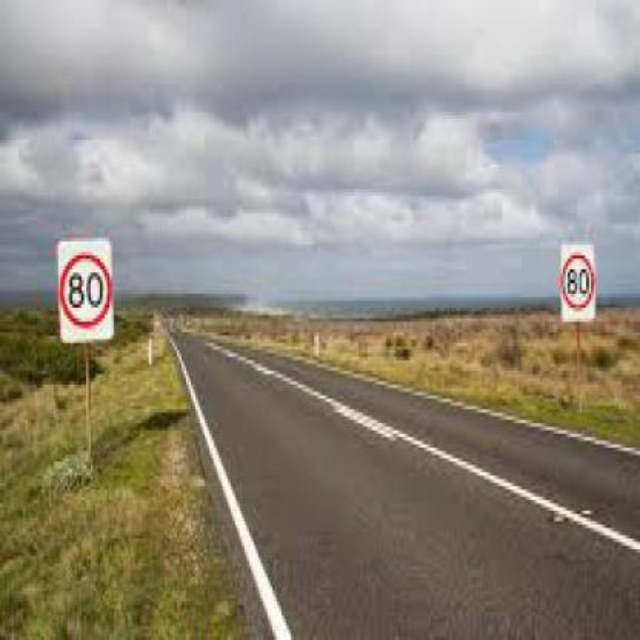Tốc độ tối đa cho phép 80km/h: (62, 249, 112, 328), (560, 253, 594, 308)
